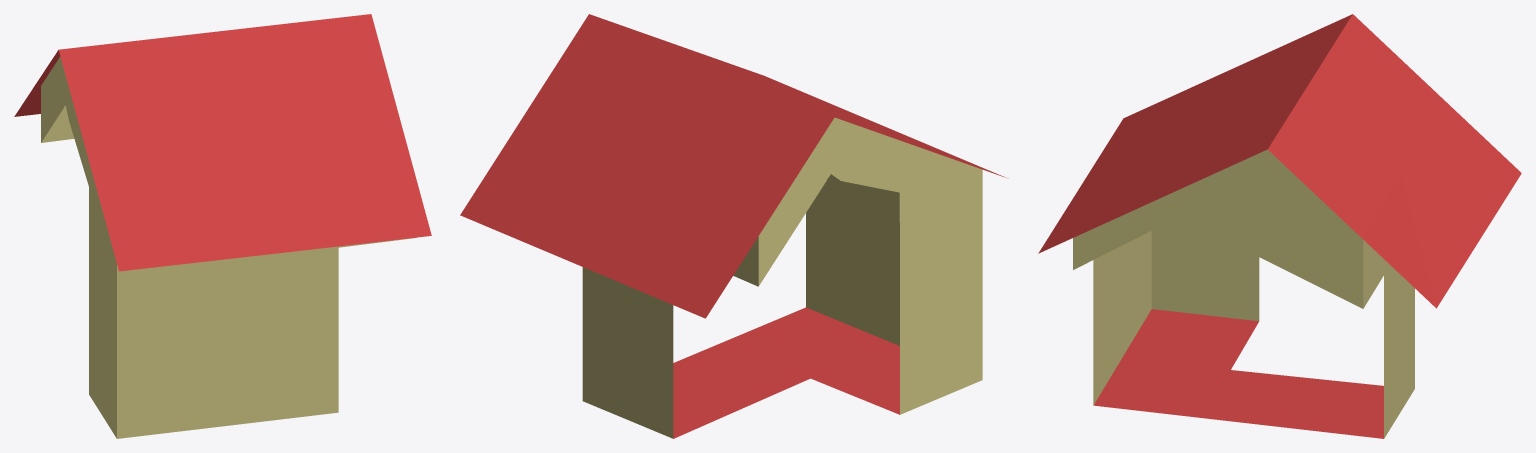
The picture shows the model from 3 angles, left to right: view 1: azimuth 30°, elevation 25°; view 2: azimuth 150°, elevation 25°; view 3: azimuth 270°, elevation 25°; orthographic projection. The views are drawn at different scales.
Bounding box in the file's own units: 19.21 × 21.79 × 15.65.
